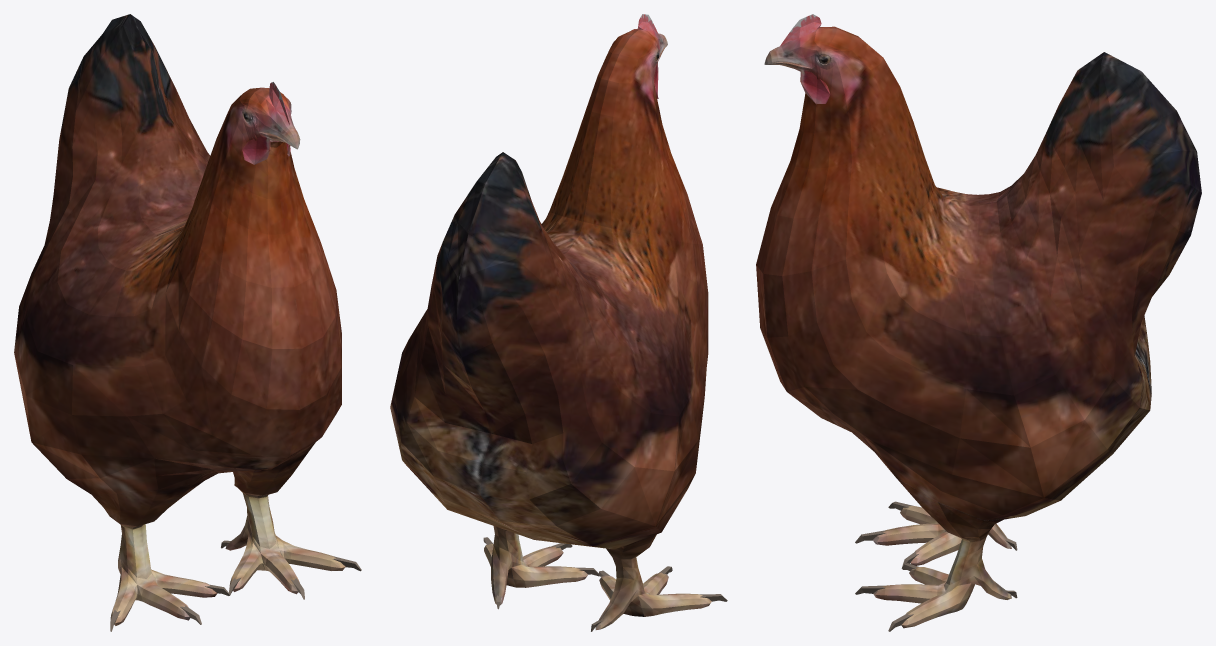
File: chicken.glb
The picture shows the model from 3 angles, left to right: view 1: azimuth 30°, elevation 25°; view 2: azimuth 150°, elevation 25°; view 3: azimuth 270°, elevation 25°; orthographic projection. The views are drawn at different scales.
Bounding box in the file's own units: 1.33 × 2.5 × 1.8.
3 materials, 3 textured.
